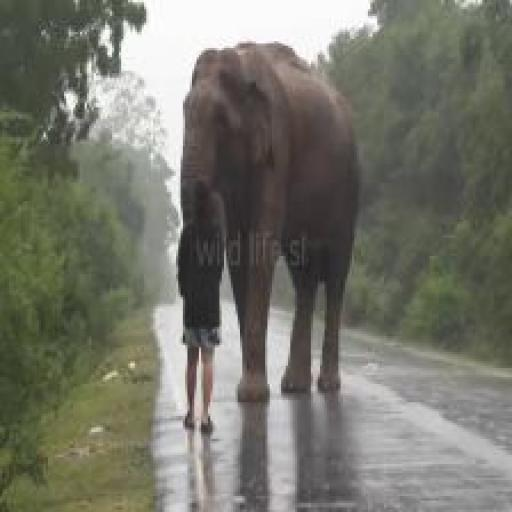Elephant: (164, 27, 380, 447)
